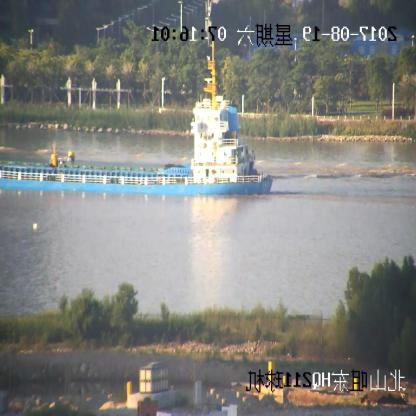Bulk Carrier: (0, 46, 274, 193)
